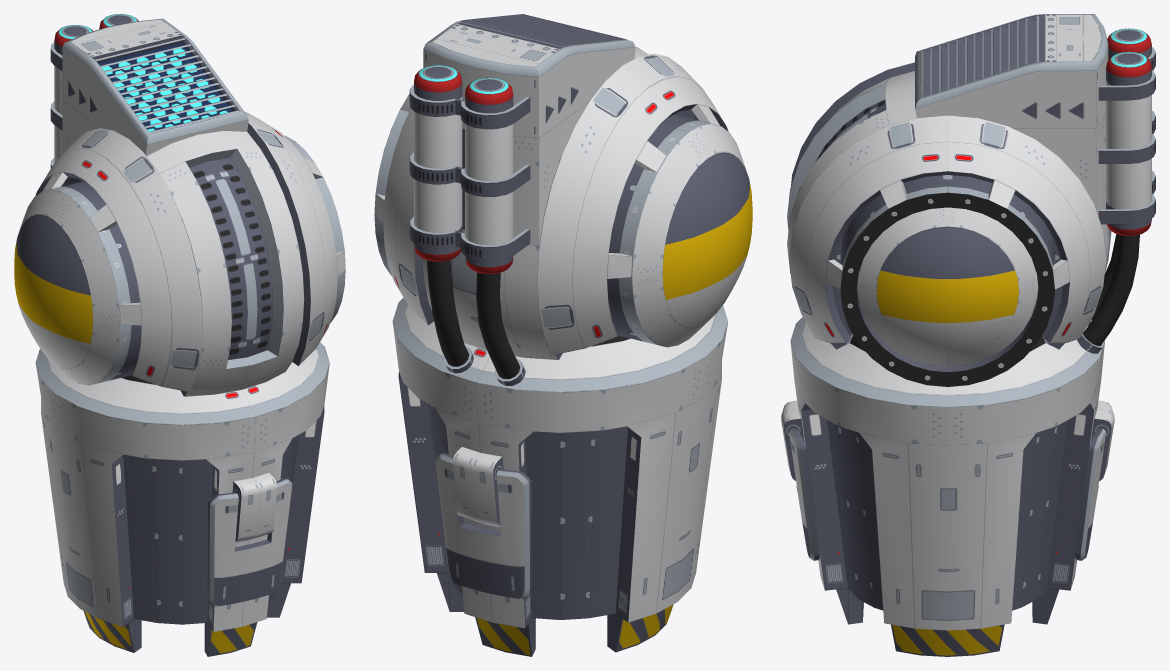
Rendered from Reactor_05_Back.FBX.
3 views of the same model, side by side, from view 1: azimuth 30°, elevation 25°; view 2: azimuth 150°, elevation 25°; view 3: azimuth 270°, elevation 25° (orthographic). The views are drawn at different scales.
Visible parts, largest first — view 1: Reactor_05_Back, Flap_01; view 2: Reactor_05_Back, Flap_02; view 3: Reactor_05_Back, Flap_01, Flap_02.
Boxes of the visible parts, x1,y1,x2,y2 form: Reactor_05_Back: (14, 14, 345, 656); Flap_01: (207, 478, 292, 606); Reactor_05_Back: (374, 14, 752, 656); Flap_02: (435, 453, 531, 599); Reactor_05_Back: (781, 14, 1155, 656); Flap_01: (789, 428, 819, 560); Flap_02: (1075, 428, 1106, 560).
Bounding box in the file's own units: 48.02 × 86.52 × 51.09.
